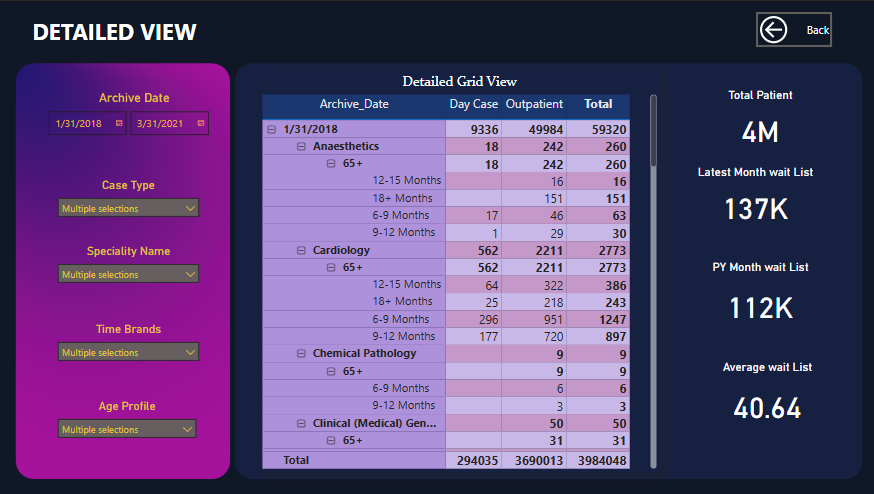

Layout of this report page (visuals, bound fields, positions):
{"tool":"powerbi","page":{"name":"Details","canvas":[1280,720],"ordinal":1},"visuals":[{"type":"slicer","title":"Archive Date","fields":{"Values":["All_data_table.Archive_Date"]},"box":[64,128,272,96],"z":0},{"type":"slicer","title":"Case Type","fields":{"Values":["All_data_table.Case_Type"]},"box":[80,256,224,80],"z":1000},{"type":"slicer","title":"Speciality Name","fields":{"Values":["All_data_table.Specialty_Name"]},"box":[80,352,224,80],"z":2000},{"type":"textbox","box":[47.7,15.9,276.1,63.6],"z":3000},{"type":"slicer","title":"Time Brands","fields":{"Values":["All_data_table.Time_Bands"]},"box":[80,464,224,80],"z":4000},{"type":"slicer","title":"Age Profile","fields":{"Values":["All_data_table.Age_Profile"]},"box":[80,576,220,80],"z":5000},{"type":"pivotTable","title":"Detailed Grid View","fields":{"Rows":["All_data_table.Archive_Date","All_data_table.Specialty_Name","All_data_table.Age_Profile","All_data_table.Time_Bands"],"Columns":["All_data_table.Case_Type"],"Values":["Sum(All_data_table.Total)"]},"box":[380.2,101.2,579.8,579.8],"z":6000},{"type":"actionButton","box":[1098.8,15.9,109.9,50.6],"z":6001},{"type":"card","title":"Latest Month wait List","fields":{"Values":["Measure_tbl.CY latest wait list"]},"box":[994.7,237.1,206.7,98.3],"z":6002},{"type":"card","title":"PY Month wait List","fields":{"Values":["Measure_tbl.PY latest month wait list"]},"box":[1001.9,374.5,206.7,111.3],"z":6003},{"type":"card","title":"Average wait List","fields":{"Values":["Measure_tbl.Avg wait list"]},"box":[1012,519,206.7,111.3],"z":6004},{"type":"card","title":"Total Patient","fields":{"Values":["Sum(All_data_table.Total)"]},"box":[1001.9,125.8,206.7,98.3],"z":6005}]}

Visuals, with their boxes in screenshot pixels (x1, y1, x2, y2), scaled from the page's 1280x720 canvas onto the 874x494 screenshot:
"Archive Date" slicer: box=[44, 88, 229, 154]
"Case Type" slicer: box=[55, 176, 208, 231]
"Speciality Name" slicer: box=[55, 242, 208, 296]
textbox: box=[33, 11, 221, 55]
"Time Brands" slicer: box=[55, 318, 208, 373]
"Age Profile" slicer: box=[55, 395, 205, 450]
"Detailed Grid View" pivotTable: box=[260, 69, 656, 467]
actionButton: box=[750, 11, 825, 46]
"Latest Month wait List" card: box=[679, 163, 820, 230]
"PY Month wait List" card: box=[684, 257, 825, 333]
"Average wait List" card: box=[691, 356, 832, 432]
"Total Patient" card: box=[684, 86, 825, 154]
